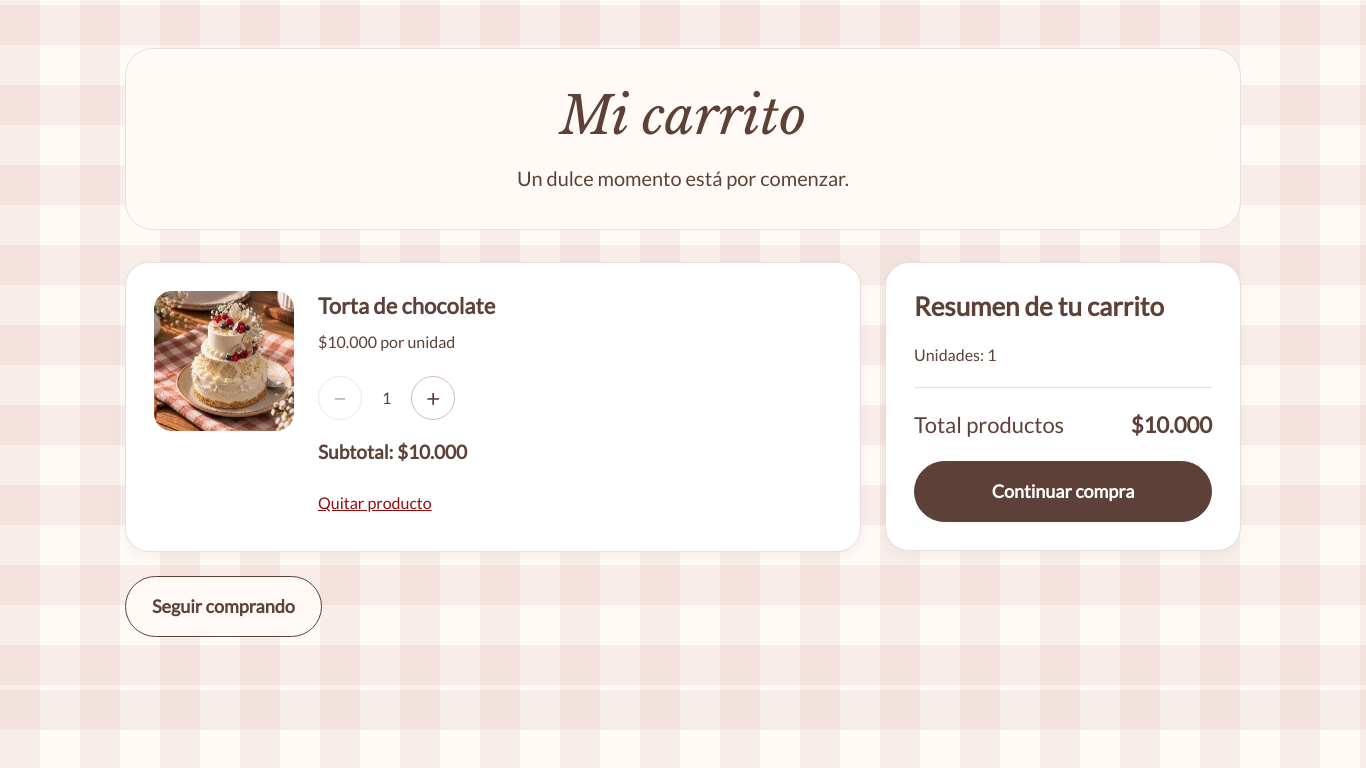
Scenario: Carrito › actualiza el total al aumentar la cantidad
Click the button named "Agregar una unidad de Torta de chocolate": coordinates (433, 398) [411,376,455,420]
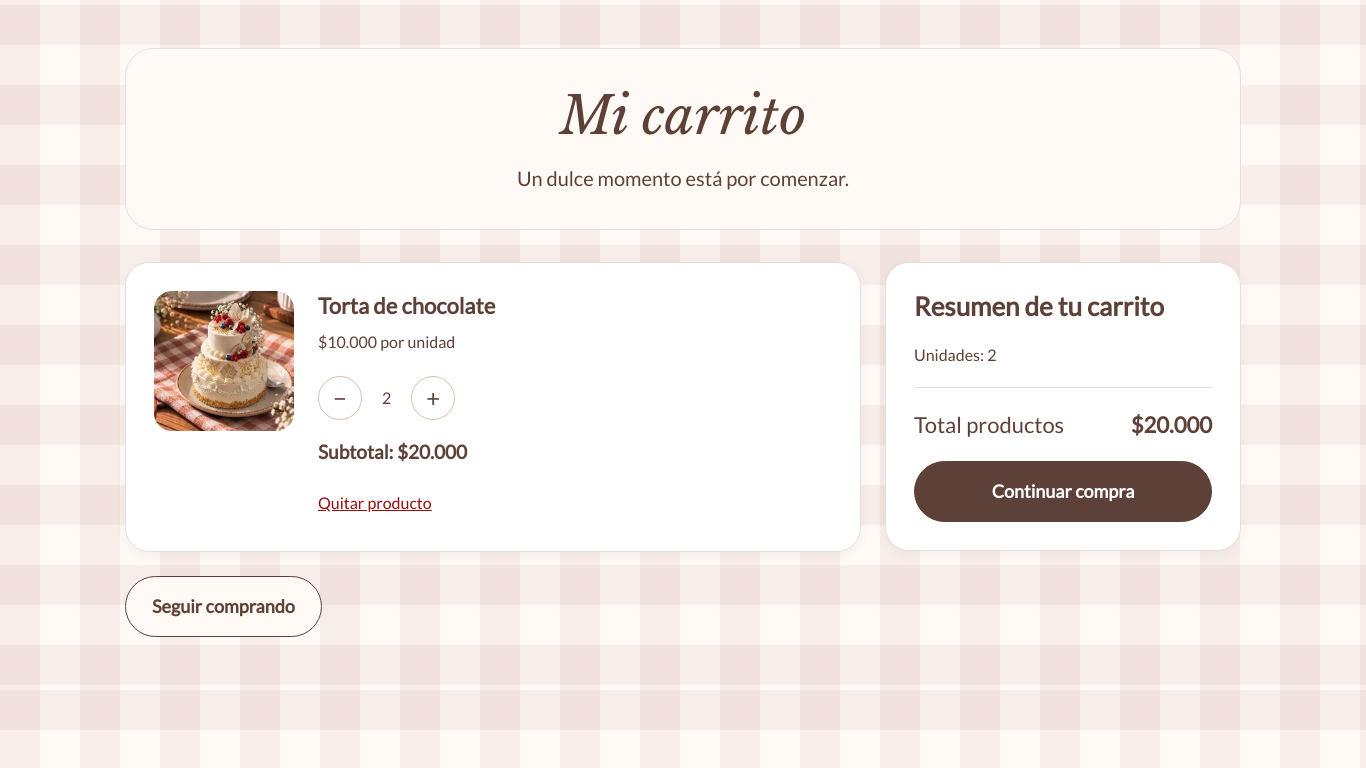
expect the text "Unidades: 2" is shown: met, box [914,345,996,364]
expect the text "$20.000" is shown: met, box [1131,408,1212,441]
